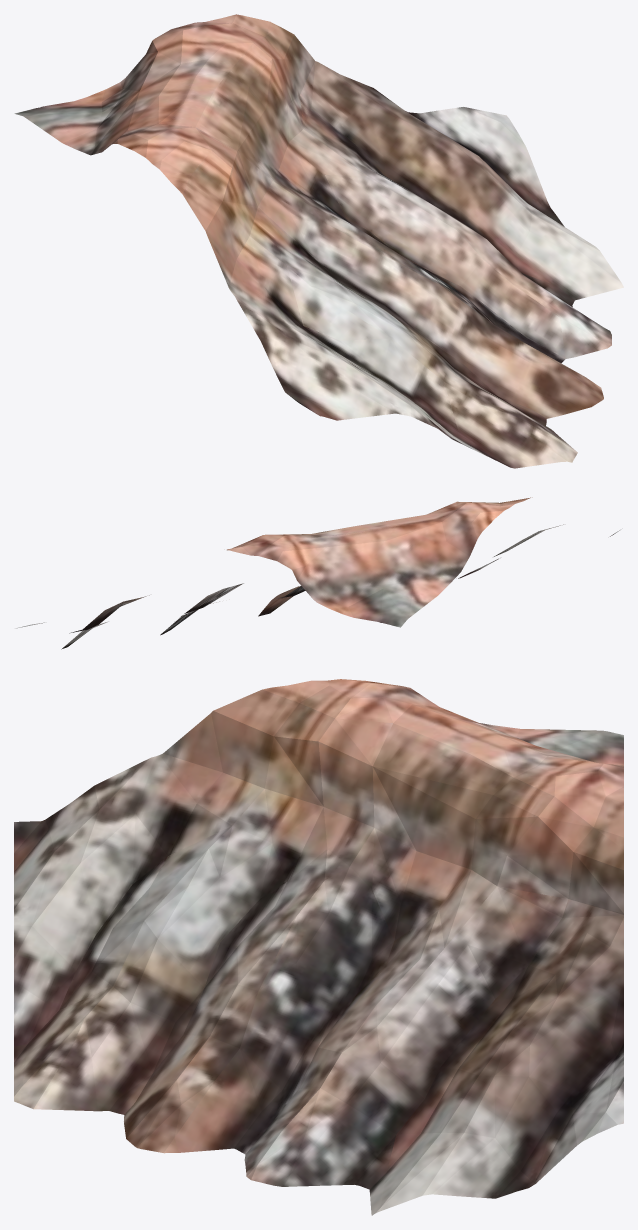
3 views of the same model, one above another, from view 1: azimuth 30°, elevation 25°; view 2: azimuth 150°, elevation 25°; view 3: azimuth 270°, elevation 25° (orthographic). The views are drawn at different scales.
Bounding box in the file's own units: 0.8374 × 0.4288 × 0.8374.
Materials: 2 (2 with a texture image).
